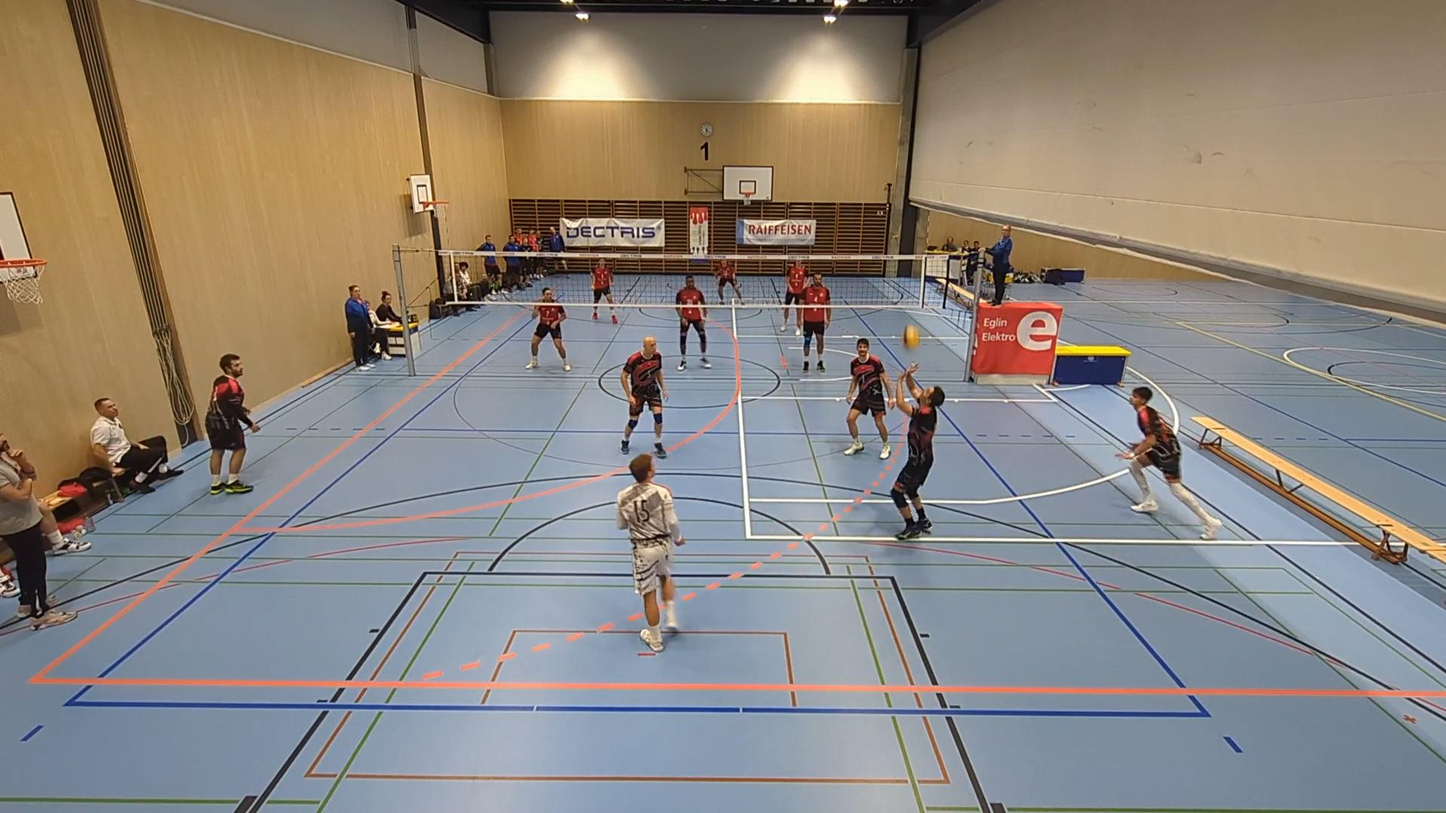alzata: (892, 364, 941, 543), (902, 325, 918, 349)
